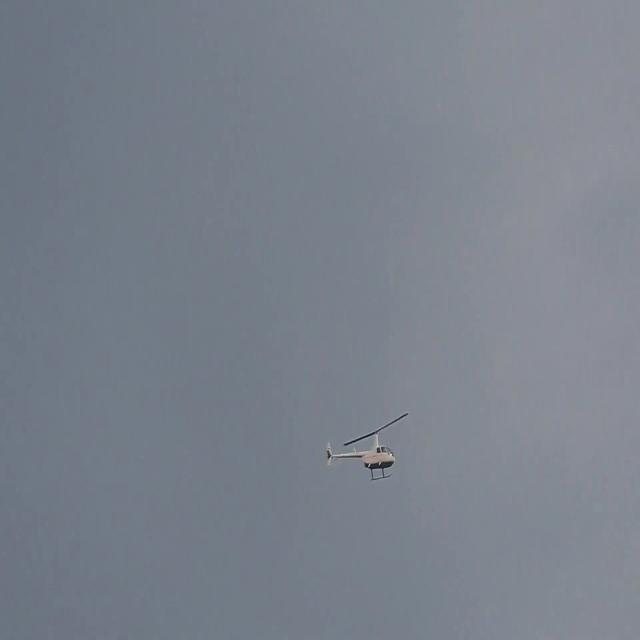CIV_HELO: (327, 432, 395, 482)
